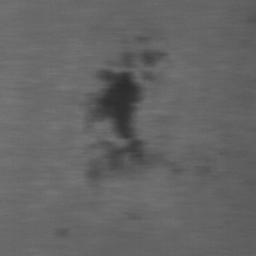Iron scale compression: (84, 68, 176, 180), (141, 49, 167, 66), (118, 52, 134, 67), (142, 71, 159, 81)
